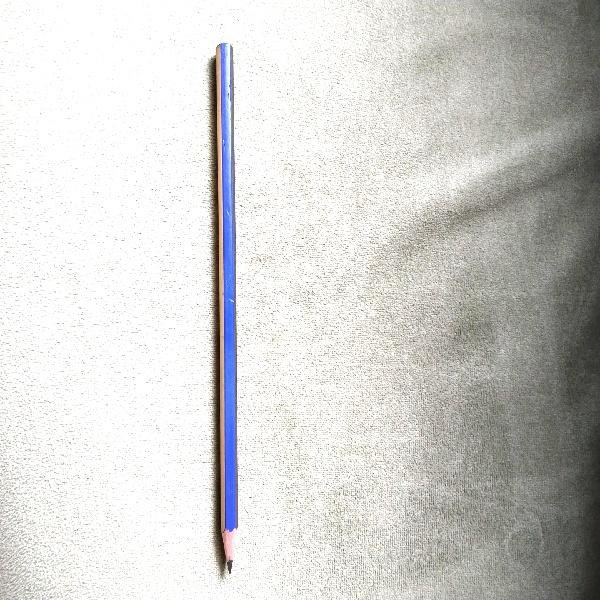pencil: (211, 43, 242, 574)
